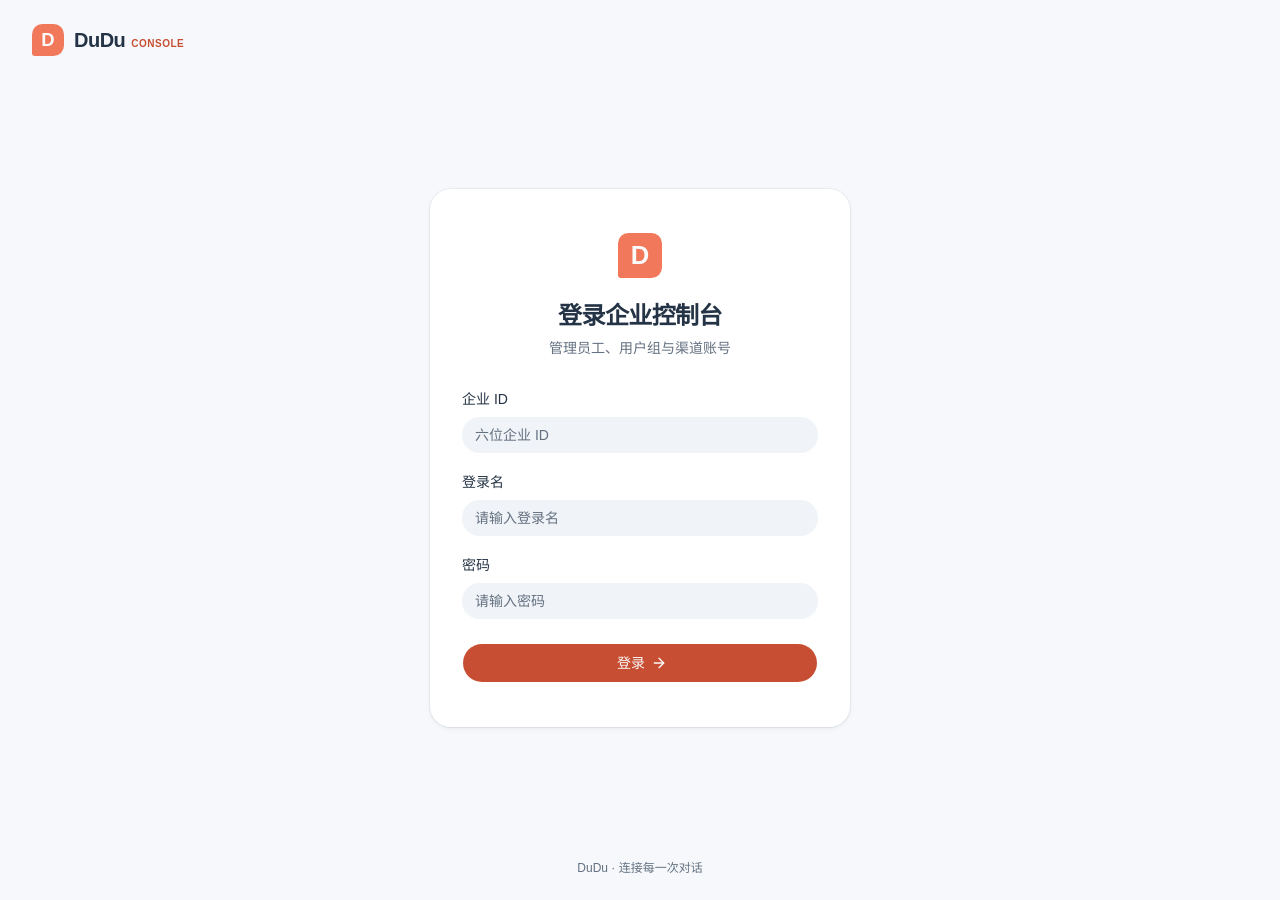
Test: 企业登录失败保留输入，成功按权限进入用户组
Type "100001" into the field labelled "企业 ID" at (640, 435), box left=462, top=417, right=818, bottom=453
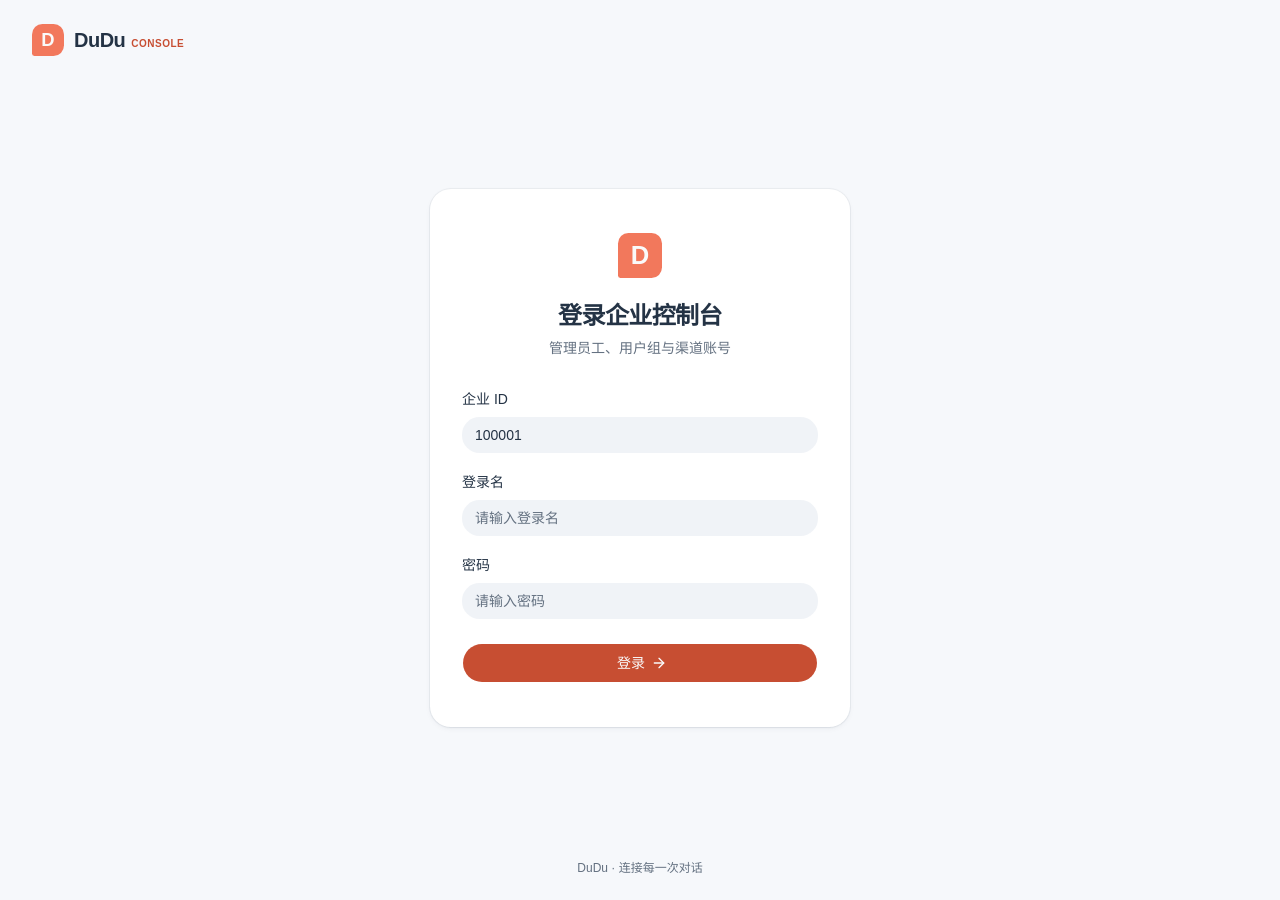
Type "manager" into the field labelled "登录名" at (640, 518), box left=462, top=500, right=818, bottom=536
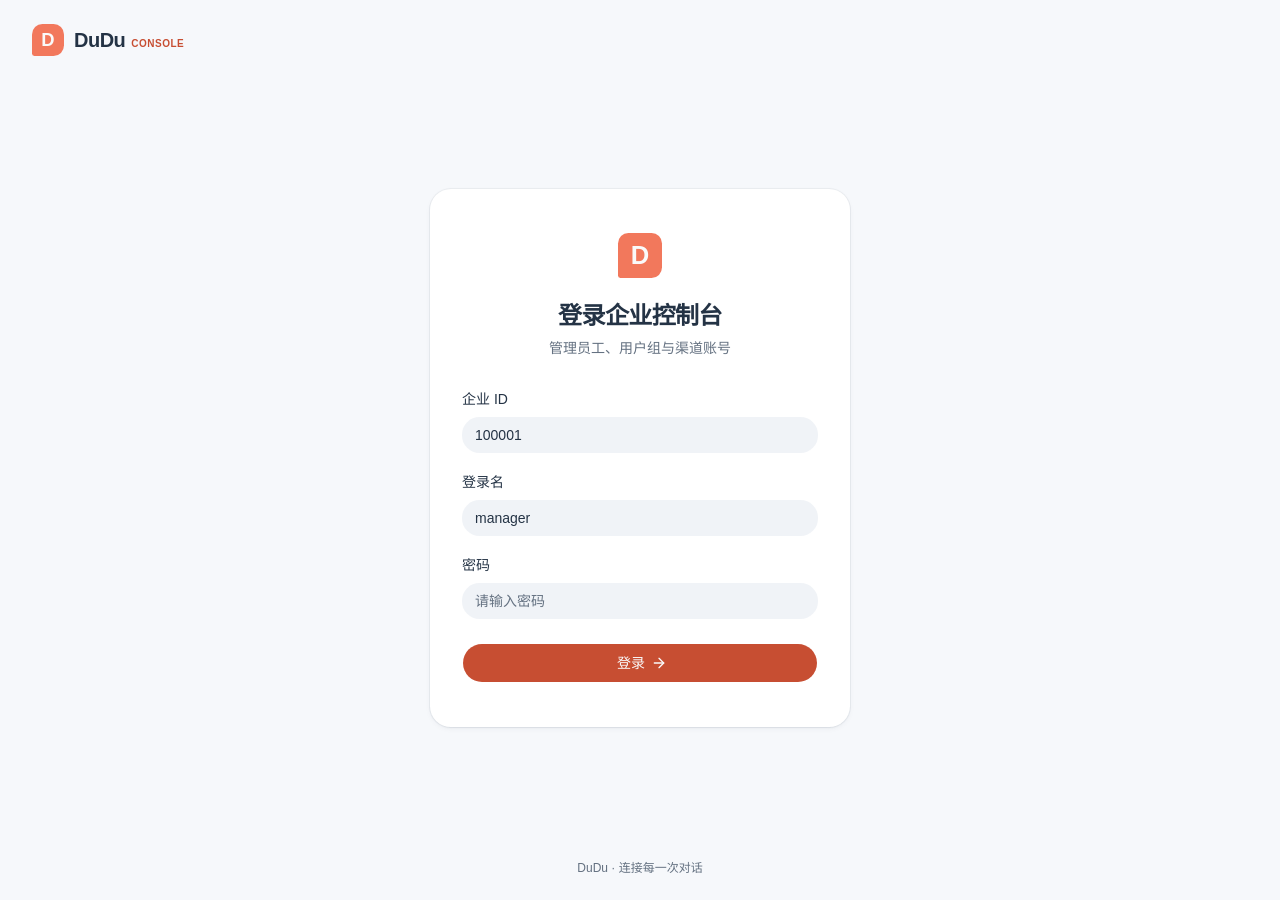
Type " password " into the password field labelled "密码" at (640, 601), box left=462, top=583, right=818, bottom=619
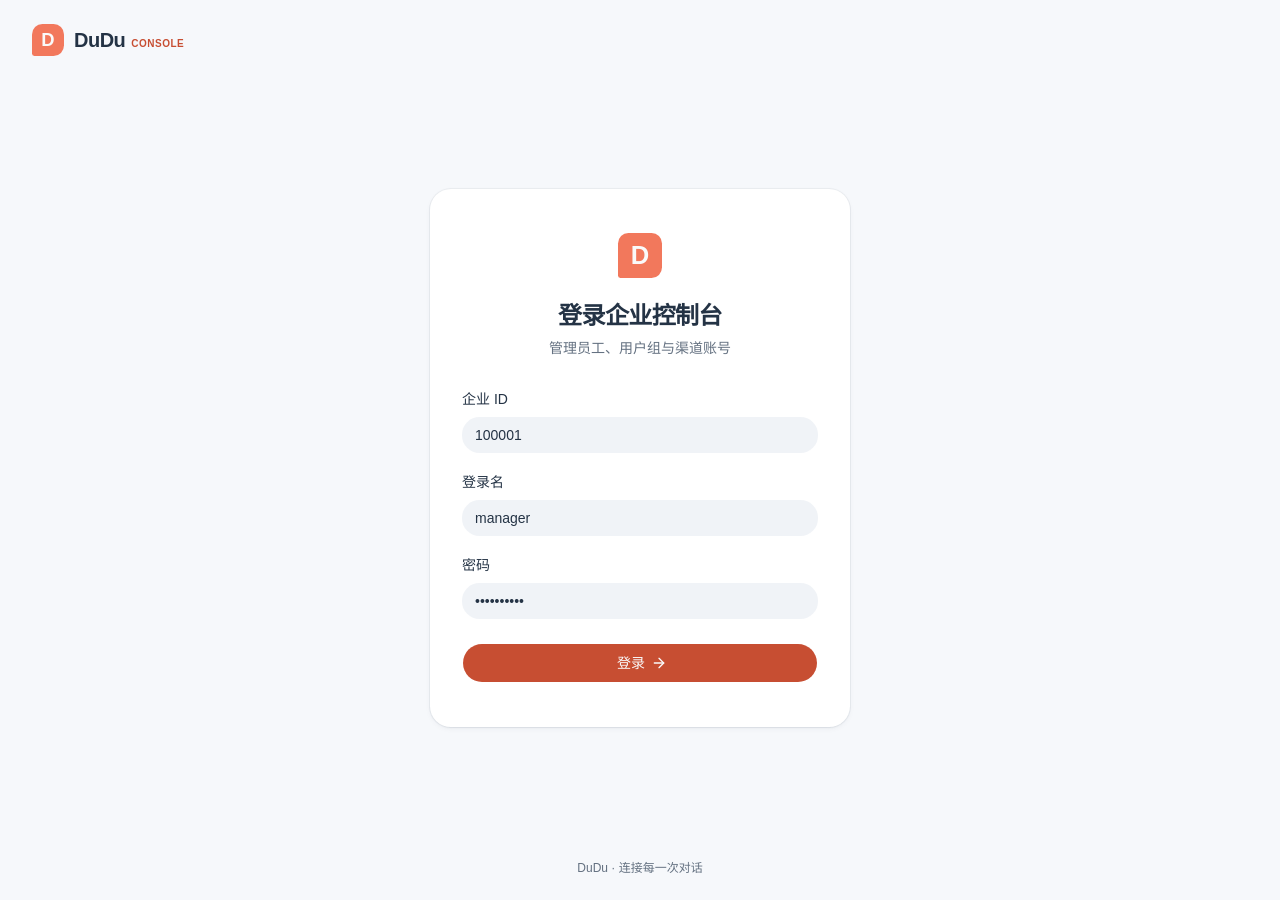
Click the button "登录" at (640, 663), box left=462, top=643, right=818, bottom=683
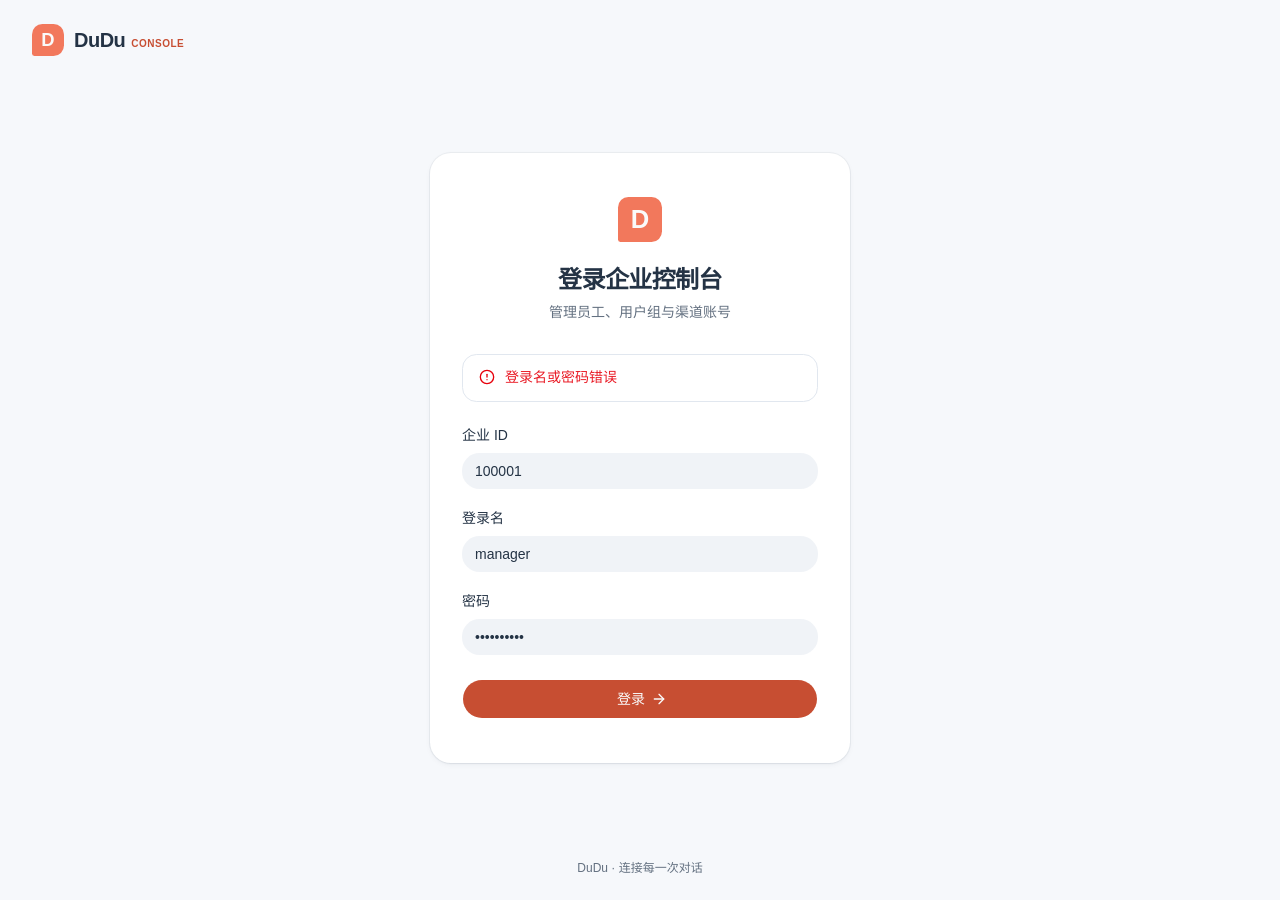
Check: the text "登录名或密码错误" is shown, box left=505, top=368, right=617, bottom=384
Click the button "登录" at (640, 699), box left=462, top=679, right=818, bottom=719
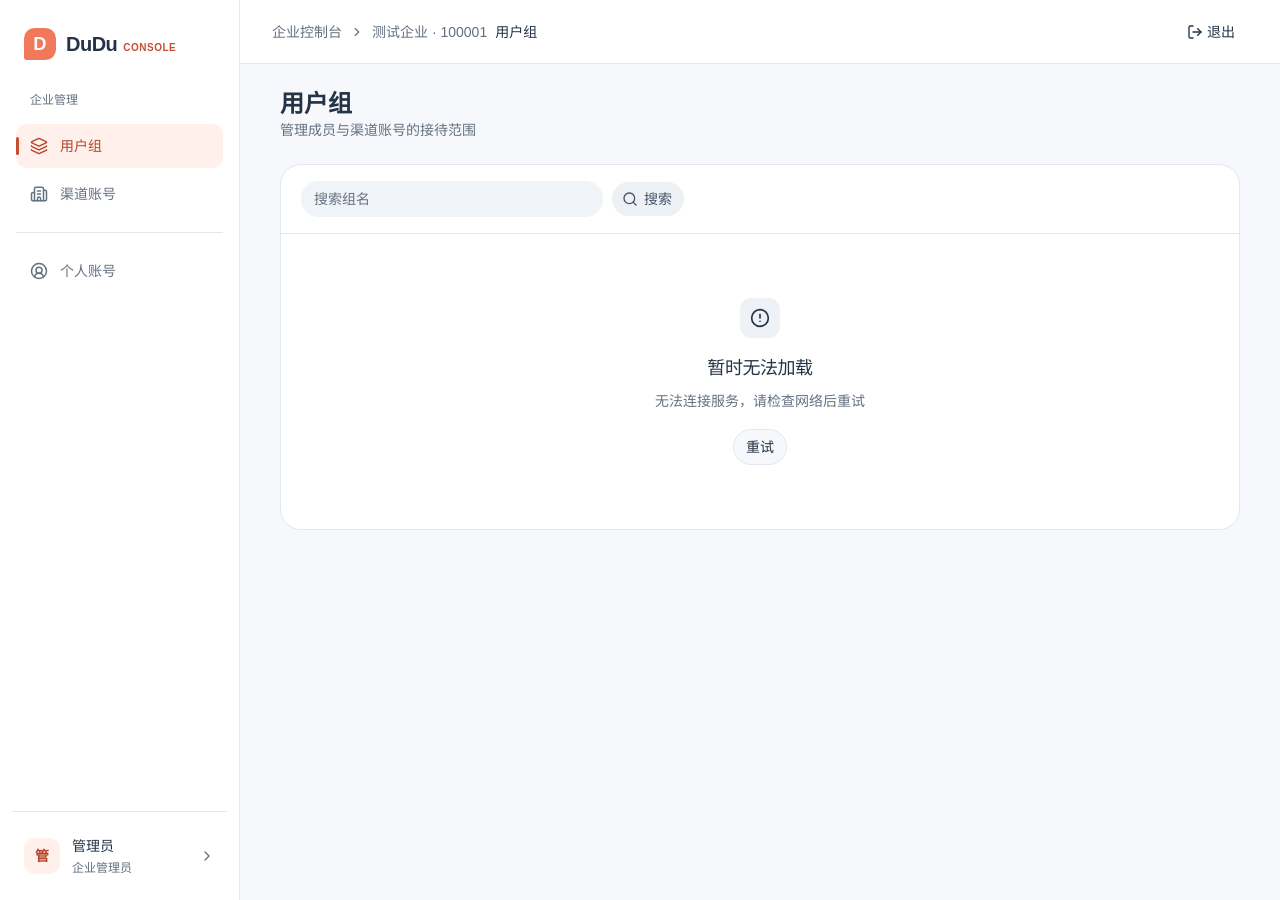
Check: the text "员工" is gone
